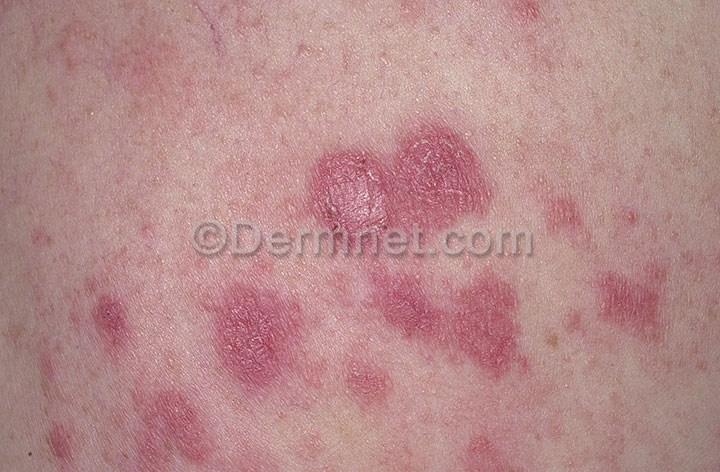Eczema: (150, 50, 519, 472), (0, 236, 140, 469), (539, 155, 698, 354), (483, 0, 574, 30)
